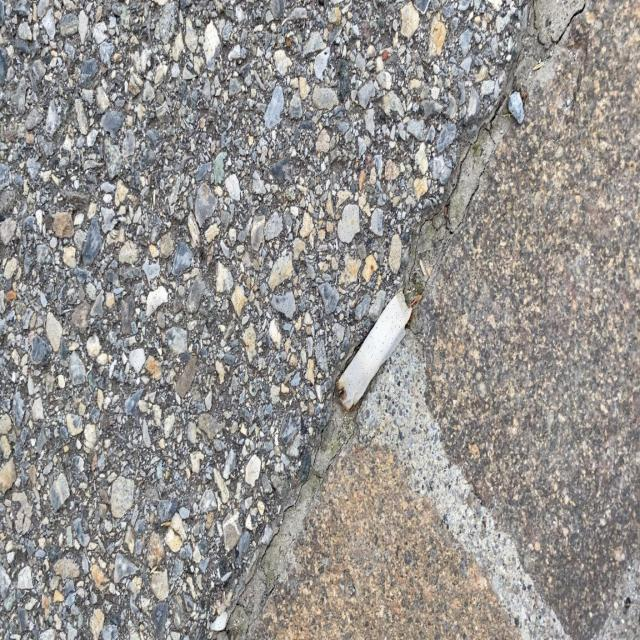other waste: (335, 289, 413, 412)
